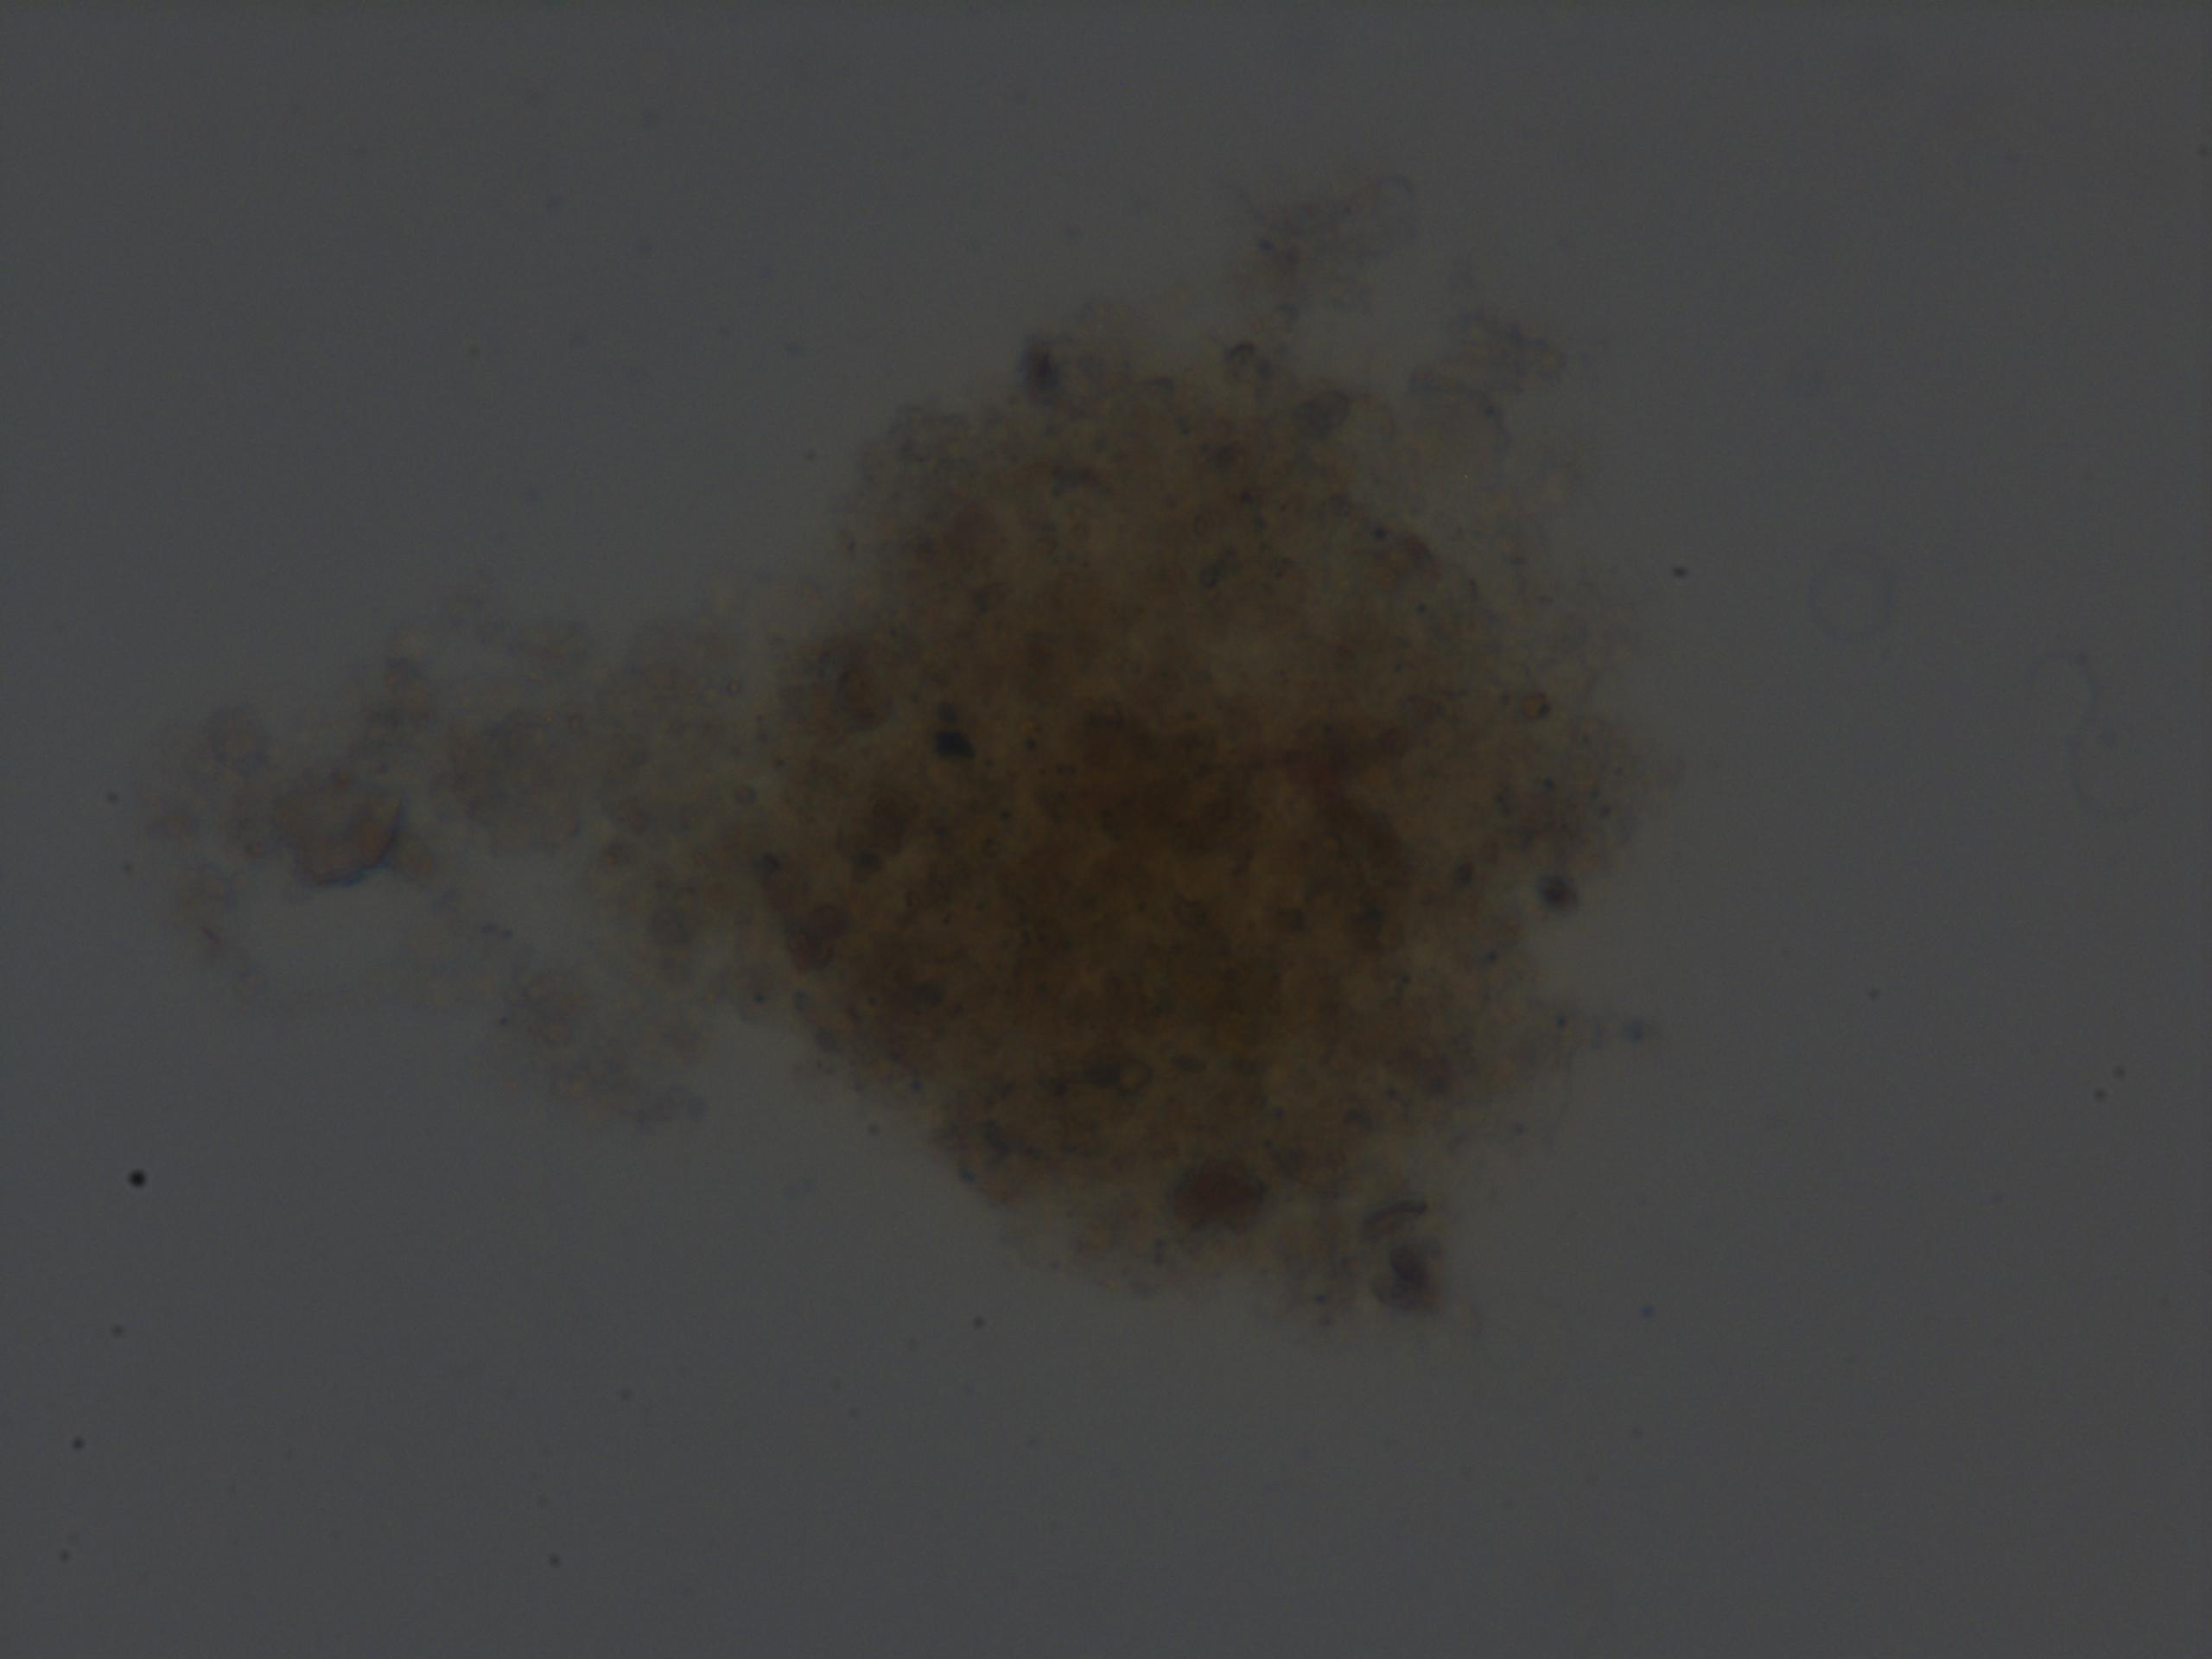spherical_floc: (676, 272, 1660, 1370)
